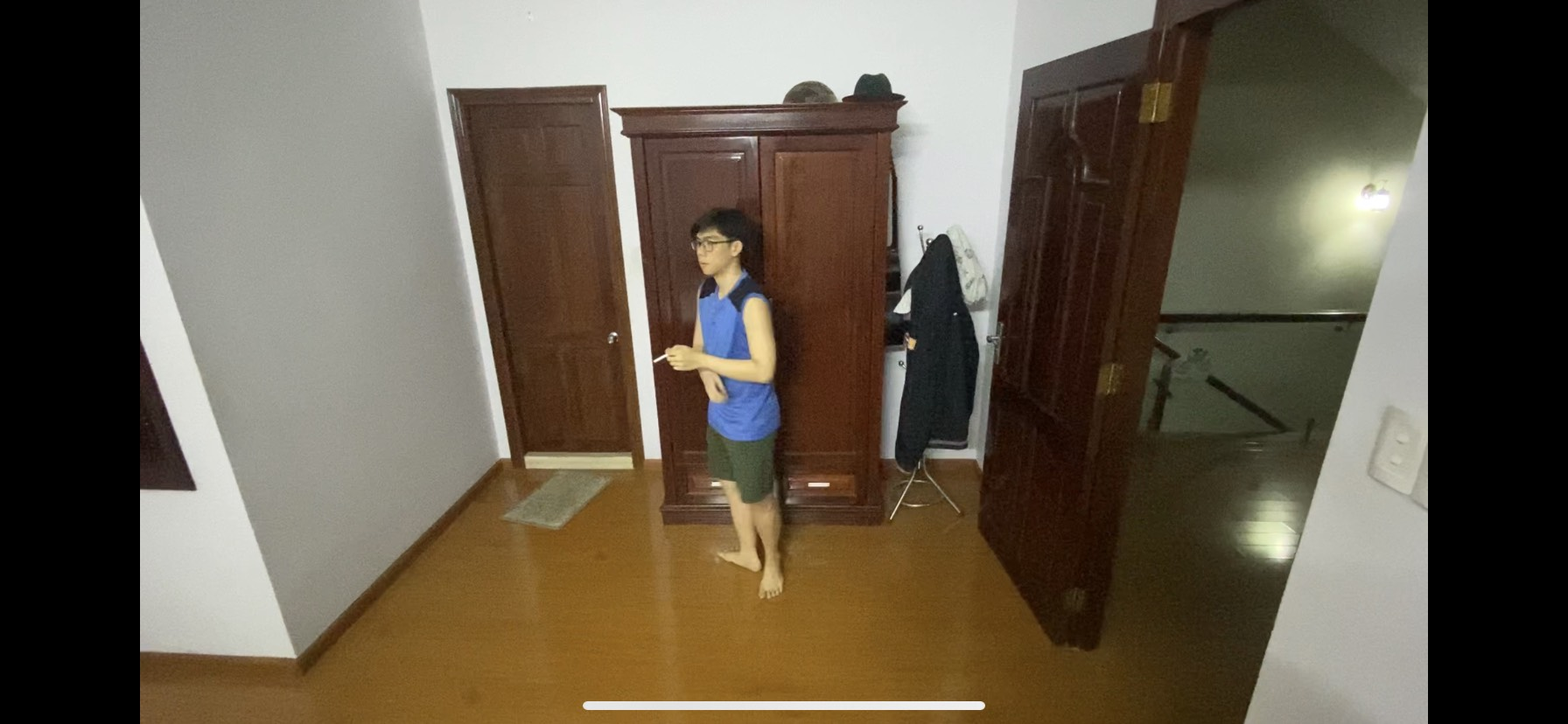cigarette: (652, 353, 669, 363)
person: (638, 205, 803, 584)
